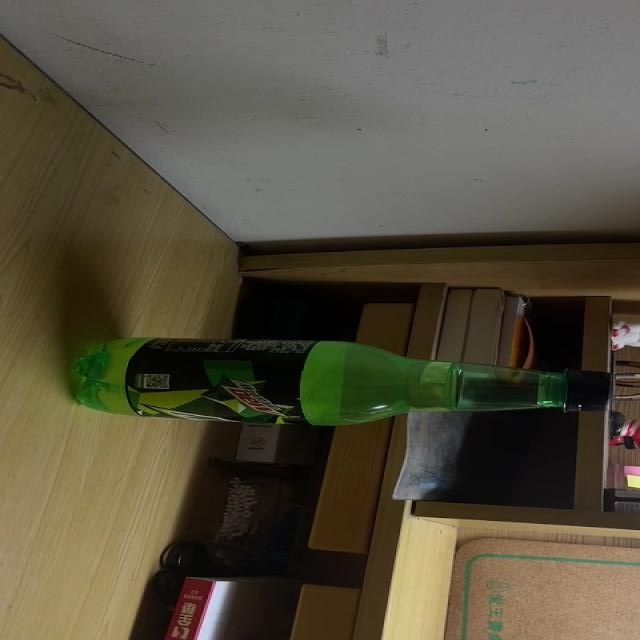Mountain-Dew: (66, 338, 614, 428)
